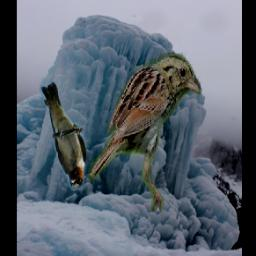Sparrow: (88, 52, 201, 211)
Swallow: (39, 82, 86, 191)
